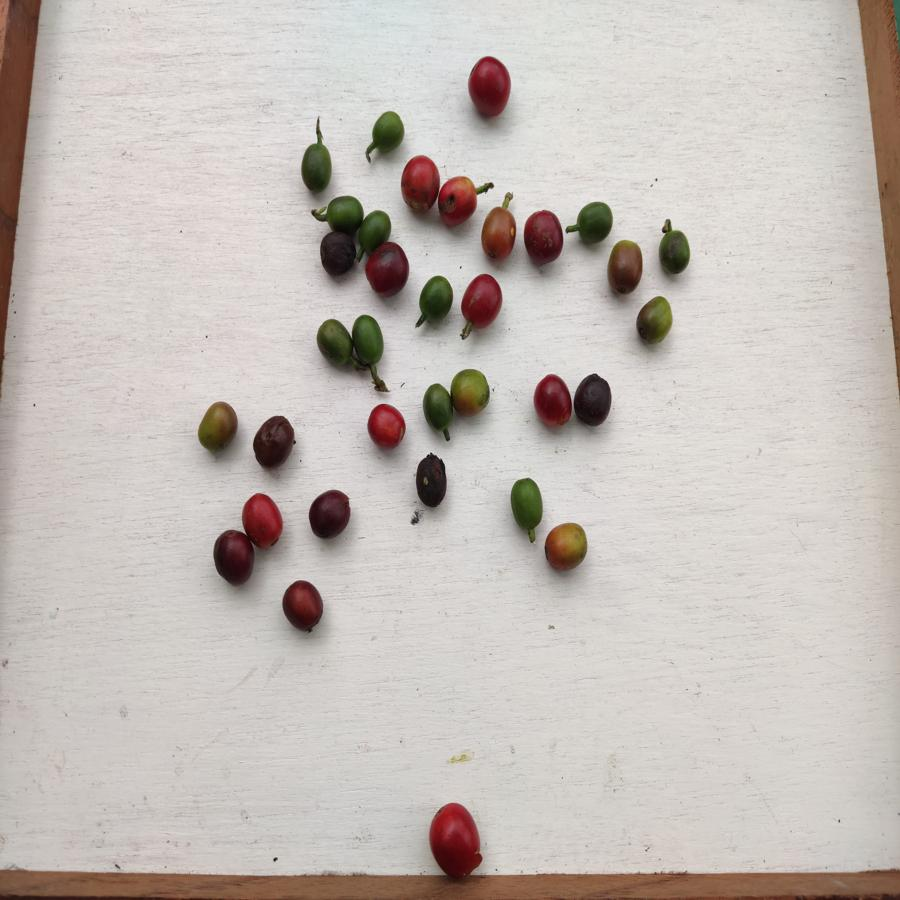Inmaduro: (508, 473, 546, 531), (314, 317, 354, 370), (348, 313, 388, 364), (420, 379, 454, 437), (657, 226, 695, 276), (298, 143, 337, 191), (317, 193, 363, 233), (418, 274, 454, 323), (575, 198, 612, 244), (367, 112, 407, 152), (355, 212, 393, 240)
Maduro: (428, 801, 487, 880), (463, 54, 515, 120), (241, 493, 284, 551), (399, 154, 439, 214), (531, 373, 573, 430), (461, 273, 504, 328), (439, 173, 478, 228), (365, 402, 406, 448)
Pinton: (193, 401, 241, 454), (543, 521, 591, 573), (607, 238, 647, 293), (633, 292, 676, 343), (480, 205, 518, 259), (451, 367, 492, 417)
Sobremaduro: (278, 573, 323, 636), (521, 208, 566, 267), (248, 416, 298, 469), (411, 451, 453, 509), (573, 369, 613, 428), (212, 532, 255, 586), (306, 490, 353, 538), (367, 243, 409, 296), (320, 233, 357, 281)
